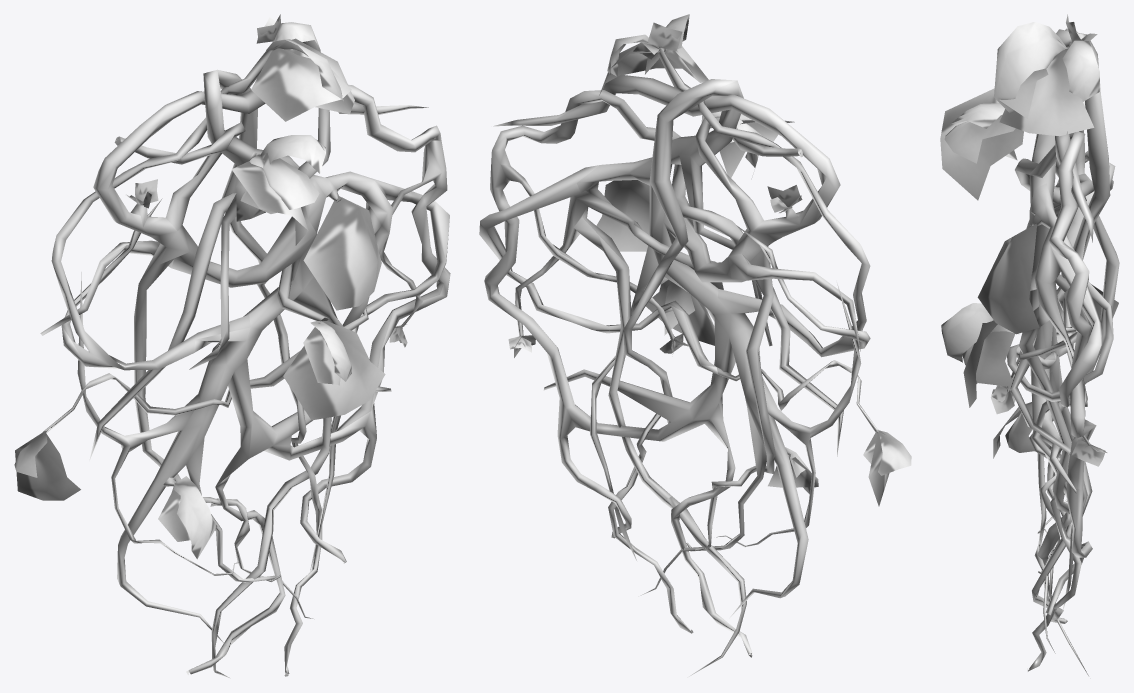
Rendered from Nature_Shield_LOD3.fbx.
3 renders of one model, left to right at view 1: azimuth 30°, elevation 25°; view 2: azimuth 150°, elevation 25°; view 3: azimuth 270°, elevation 25°, orthographic. The views are drawn at different scales.
Parts seen in each view (by area): view 1: Nature_Shield_LOD3; view 2: Nature_Shield_LOD3; view 3: Nature_Shield_LOD3.
Part boxes in pixels (box(x1,y1,x2,y2)): Nature_Shield_LOD3: box(14, 14, 450, 678); Nature_Shield_LOD3: box(479, 14, 911, 677); Nature_Shield_LOD3: box(940, 14, 1119, 675).
Bounding box in the file's own units: 3.05 × 4.39 × 1.05.
